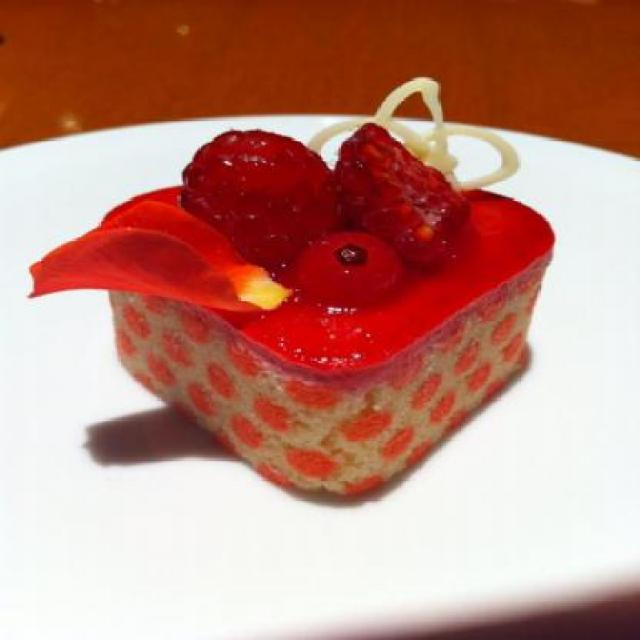Strawberry: (180, 116, 338, 242)
